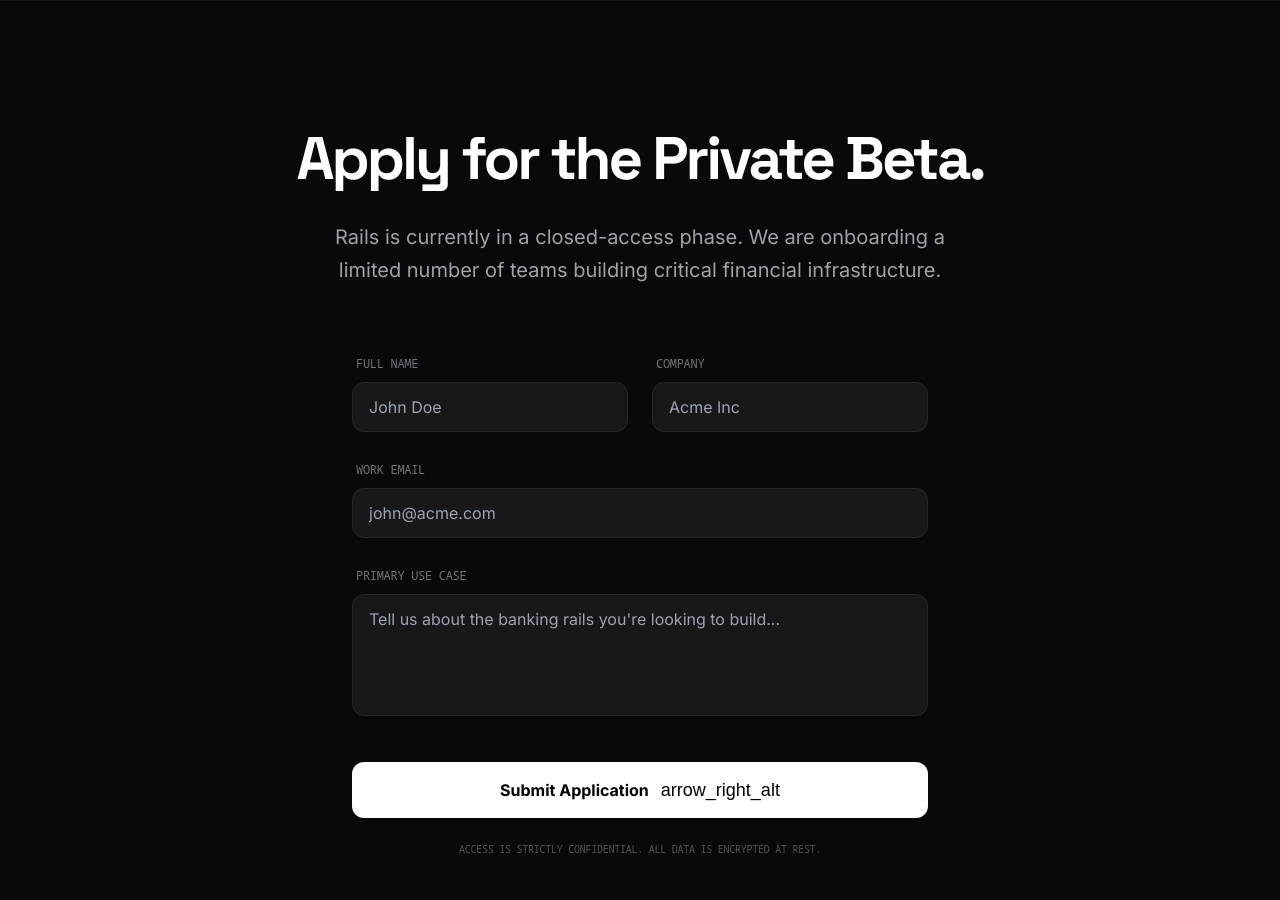
BetaSignup › shows friendly message for network / Failed to fetch errors
Type "Jane" into the field with placeholder "John Doe".
click(490, 407); type("Jane")  # box 352,382 -> 628,432
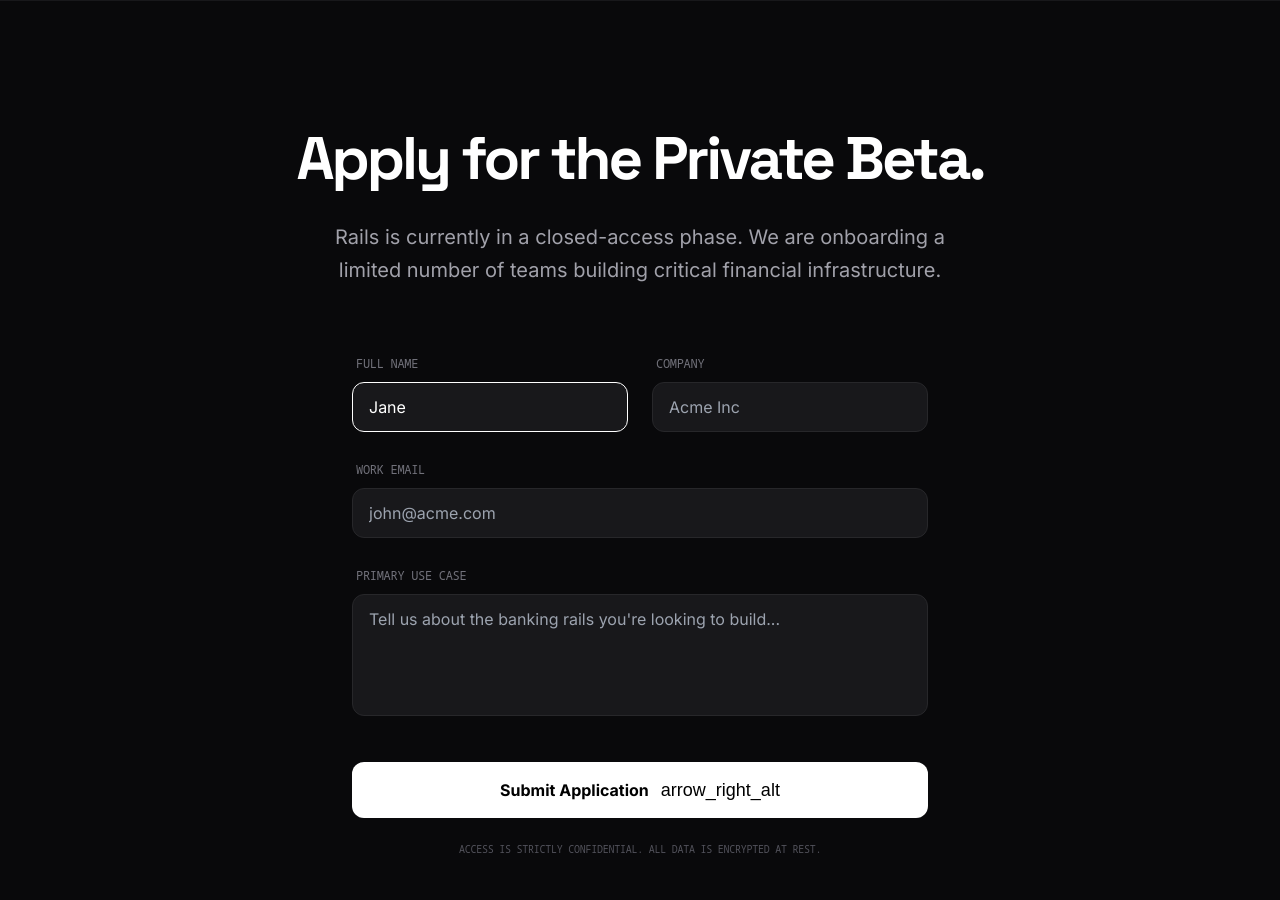
Type "Acme" into the field with placeholder "Acme Inc".
click(790, 407); type("Acme")  # box 652,382 -> 928,432
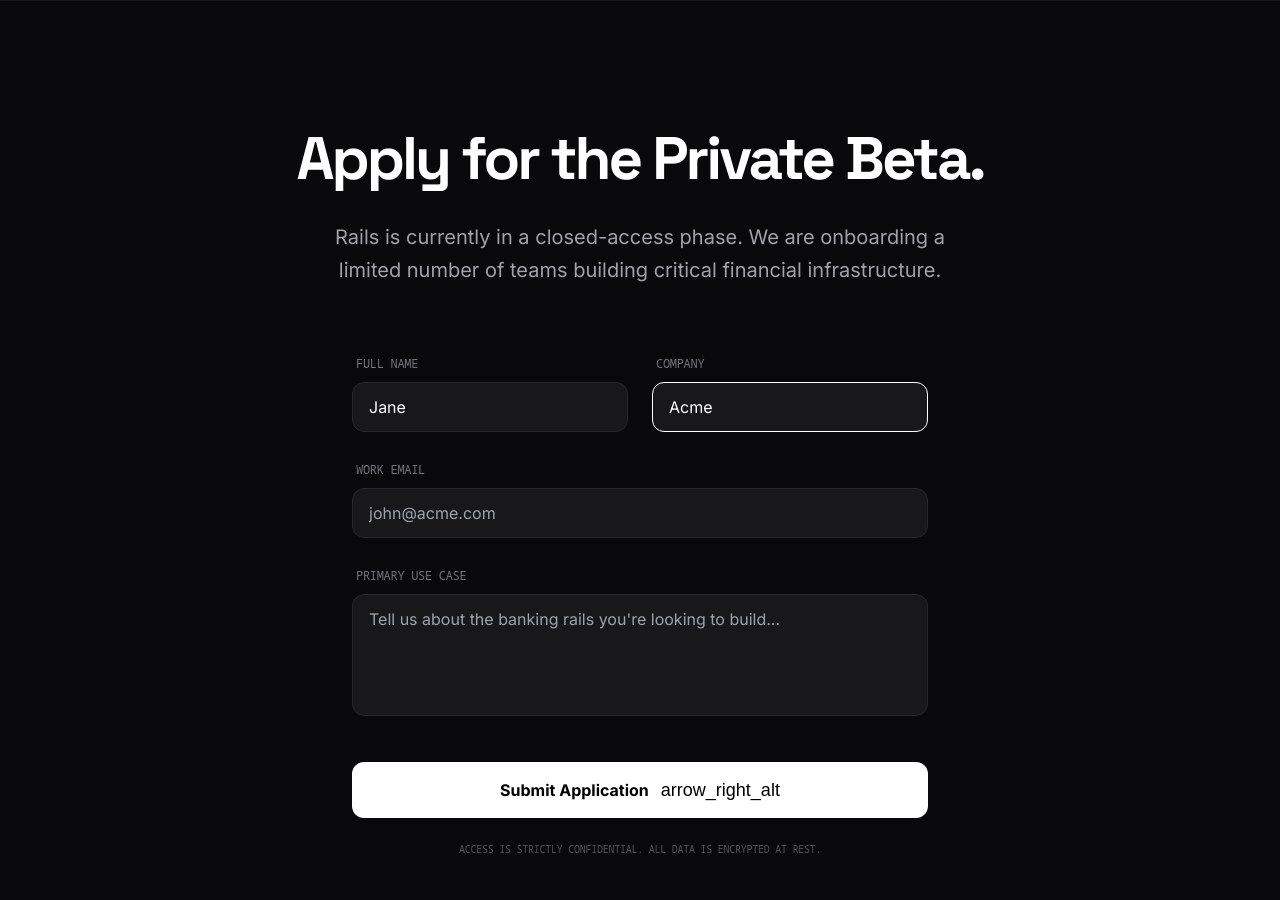
Type "jane@acme.com" into the field with placeholder "john@acme.com".
click(640, 513); type("jane@acme.com")  # box 352,488 -> 928,538
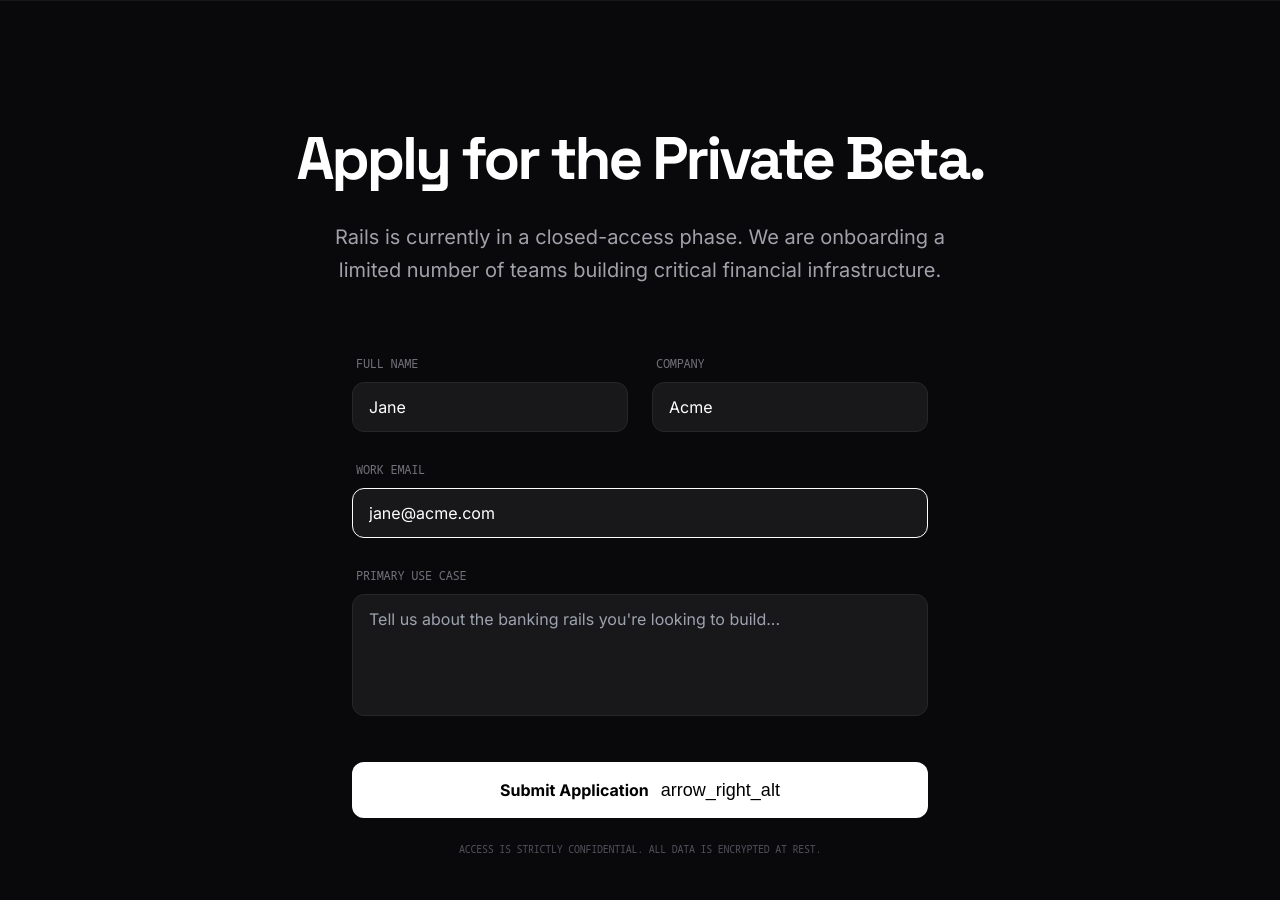
Type "Payments" into the text box with placeholder "Tell us about the banking rails you're looking to build...".
click(640, 655); type("Payments")  # box 352,594 -> 928,716
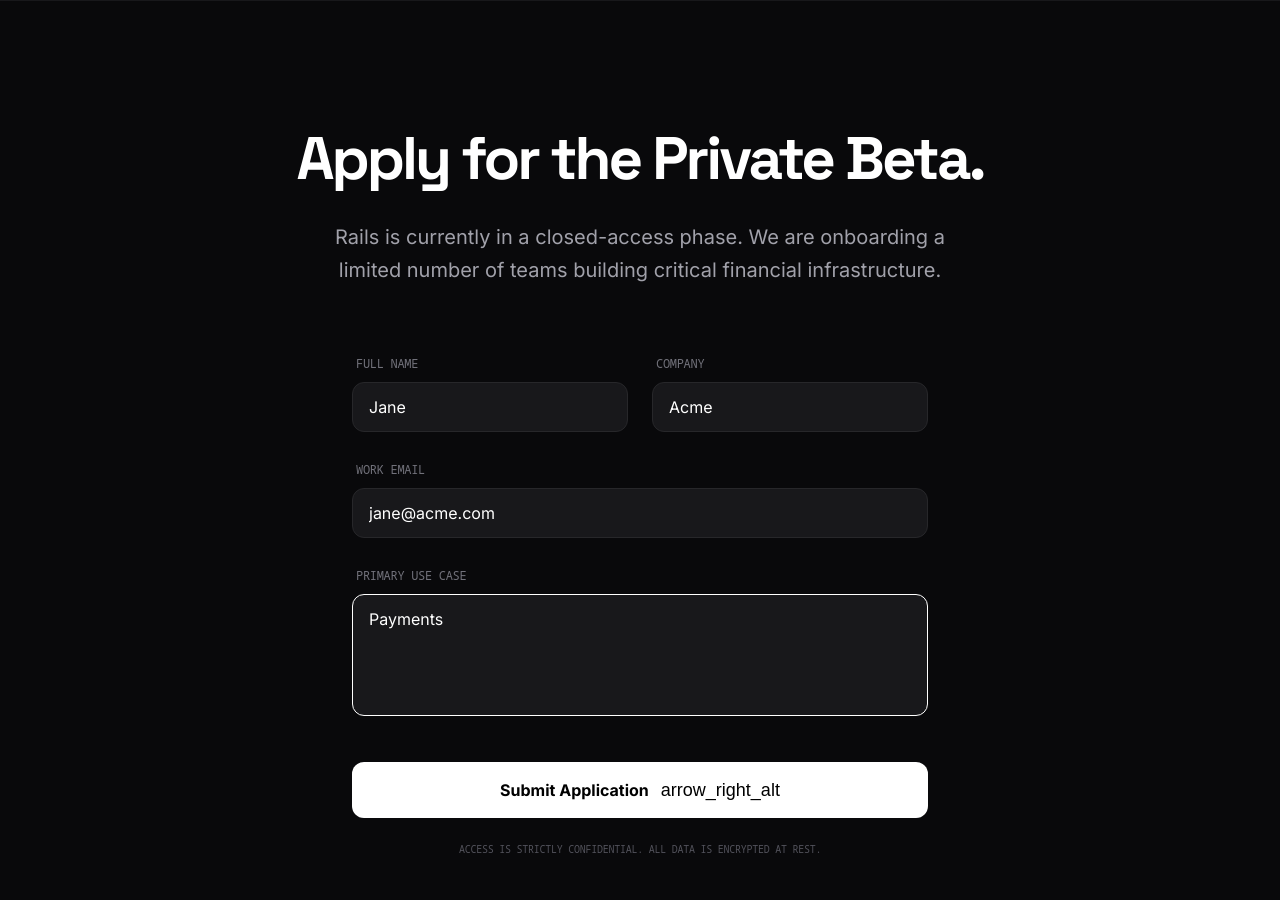
Click the button "Submit Application".
click(640, 790)  # box 352,762 -> 928,818
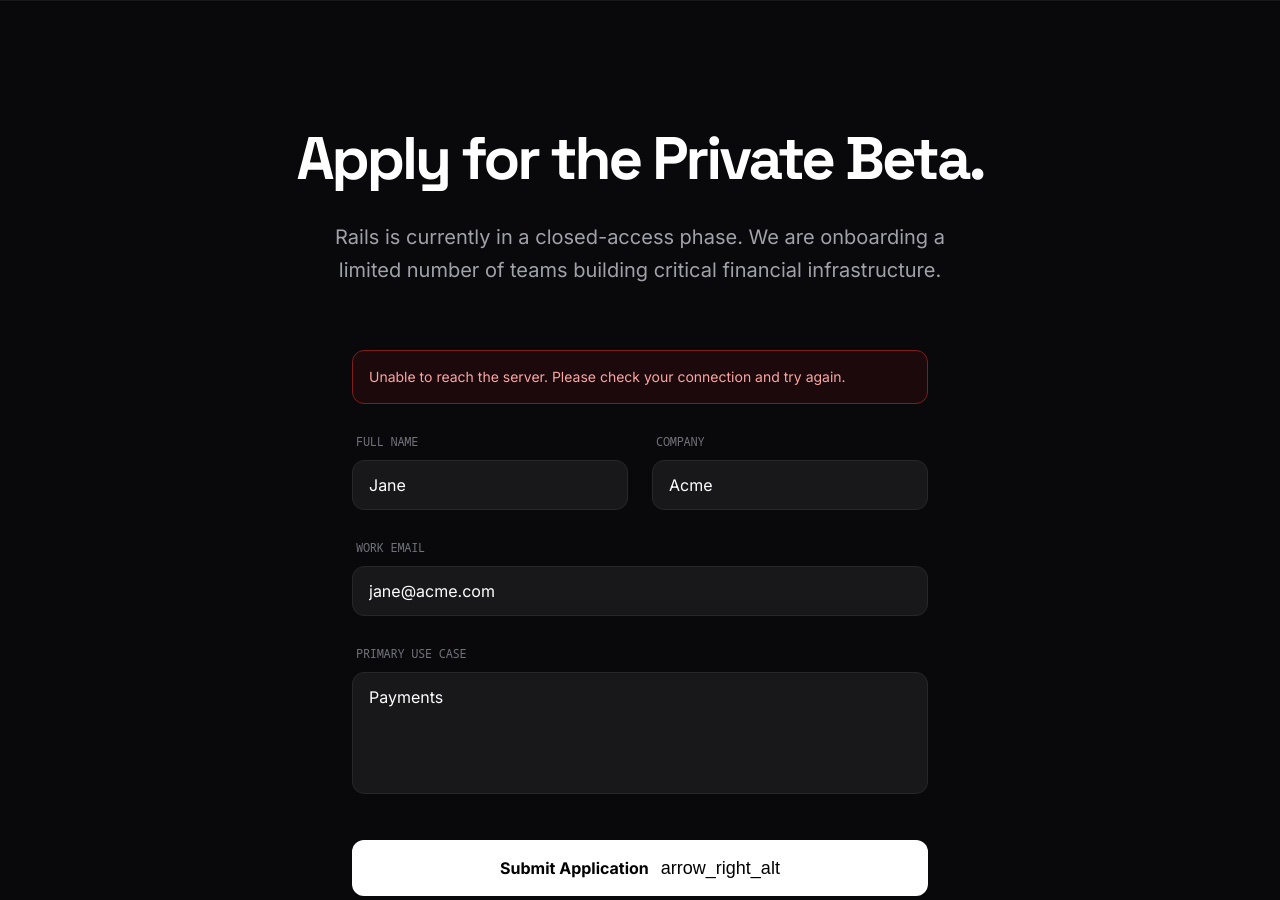
Expected: the message reads "Unable to reach the server. Please check your connection and try again.", 369,368 -> 846,385
